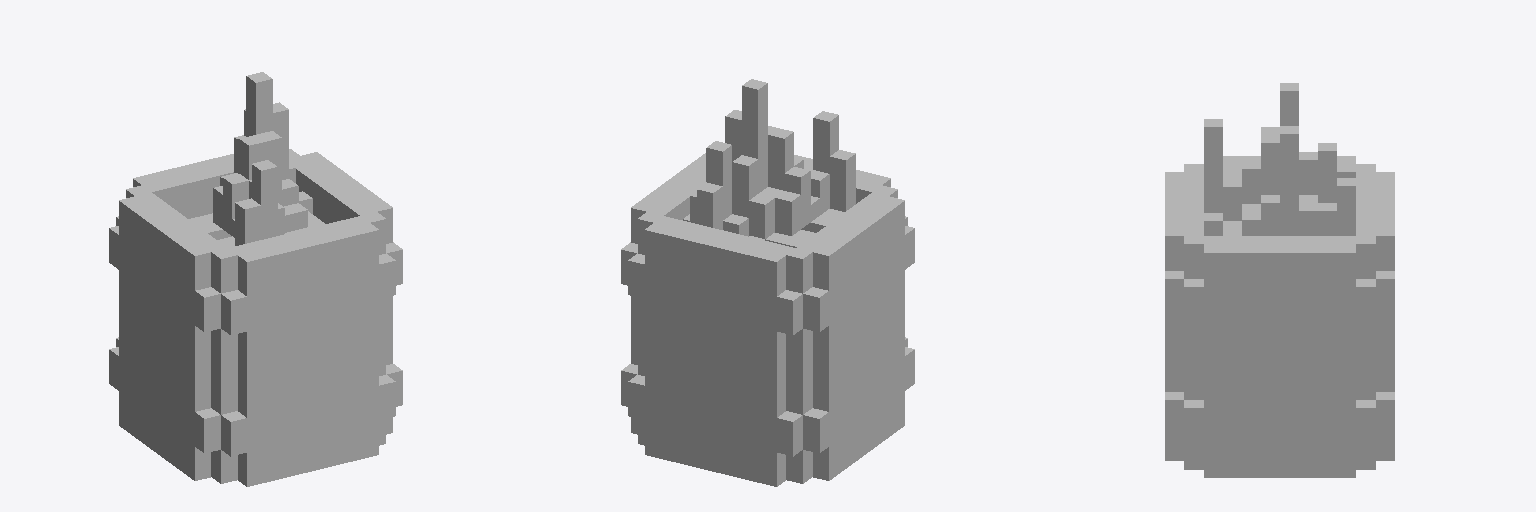
Rendered from bonefire.obj.
3 renders of one model, left to right at view 1: azimuth 30°, elevation 25°; view 2: azimuth 150°, elevation 25°; view 3: azimuth 270°, elevation 25°, orthographic.
Visible parts, largest first — view 1: Bonefire; view 2: Bonefire; view 3: Bonefire.
Part boxes in pixels (x1,y1,x2,y2): Bonefire: (109, 72, 402, 486); Bonefire: (621, 79, 914, 486); Bonefire: (1165, 83, 1394, 477).
Size of the model in its own units: 0.6 by 1 by 0.6.